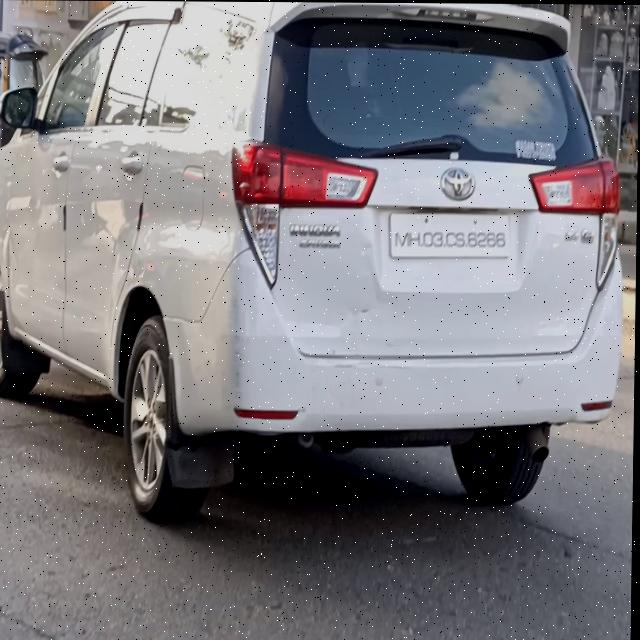plate: (387, 210, 512, 262)
